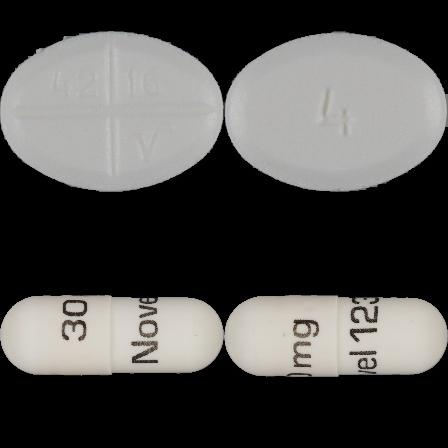55289-649: (0, 0, 224, 224)
